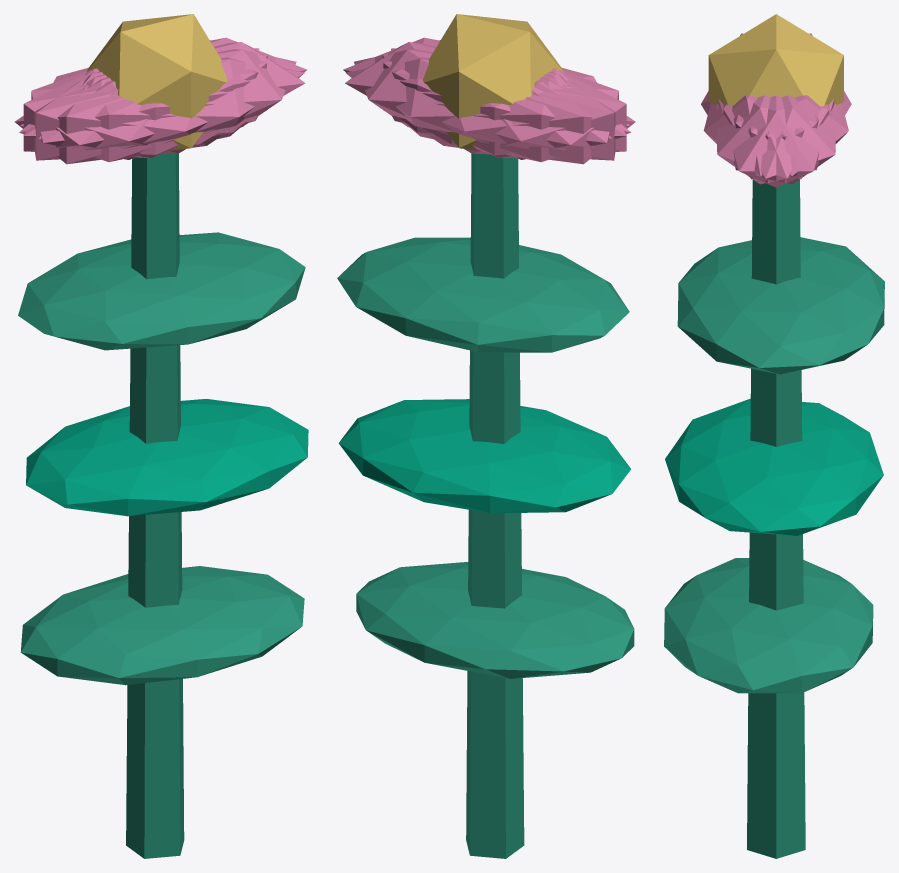
Rendered from phanera-kockiana.glb.
3 renders of one model, left to right at view 1: azimuth 30°, elevation 25°; view 2: azimuth 150°, elevation 25°; view 3: azimuth 270°, elevation 25°, orthographic.
Visible parts, largest first — view 1: stem, leaf0, leaf1, leaf2, center, petal1, petal6, petal2, petal5, petal7, petal0, petal4 (+2 smaller); view 2: stem, leaf2, leaf1, leaf0, center, petal8, petal3, petal7, petal4, petal2, petal0, petal5 (+2 smaller); view 3: stem, leaf1, leaf2, leaf0, center, petal0, petal4, petal5, petal8, petal1.
Boxes of the visible parts, box(x1,y1,x2,y2) form: stem: box(126, 153, 184, 858); leaf0: box(20, 566, 304, 685); leaf1: box(26, 399, 308, 516); leaf2: box(18, 232, 305, 350); center: box(86, 14, 227, 150); petal1: box(19, 57, 304, 161); petal6: box(14, 70, 221, 164); petal2: box(34, 48, 259, 160); petal5: box(38, 49, 296, 154); petal7: box(23, 54, 267, 158); petal0: box(86, 42, 305, 144); petal4: box(20, 37, 306, 136); stem: box(466, 153, 524, 858); leaf2: box(337, 237, 629, 352); leaf1: box(338, 399, 630, 513); leaf0: box(356, 562, 634, 678); center: box(423, 14, 563, 150); petal8: box(346, 57, 630, 162); petal3: box(429, 70, 635, 164); petal7: box(391, 48, 615, 160); petal4: box(354, 49, 611, 154); petal2: box(382, 54, 626, 158); petal0: box(345, 42, 563, 144); petal5: box(343, 37, 629, 136); stem: box(747, 179, 805, 858); leaf1: box(665, 398, 883, 535); leaf2: box(677, 237, 884, 374); leaf0: box(664, 558, 873, 693); center: box(708, 14, 843, 106); petal0: box(718, 95, 834, 187); petal4: box(723, 95, 835, 184); petal5: box(716, 95, 829, 184); petal8: box(733, 95, 848, 176); petal1: box(703, 95, 818, 176).
Size of the model in its own units: 0.1452 by 0.4069 by 0.1.
